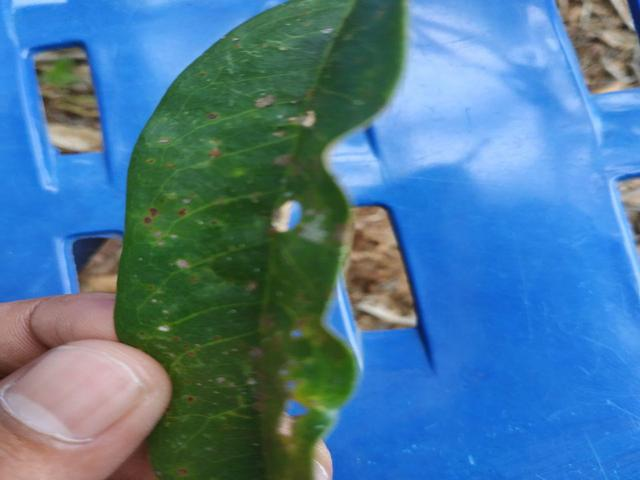blight spot: (269, 313, 320, 453), (257, 171, 310, 254)
